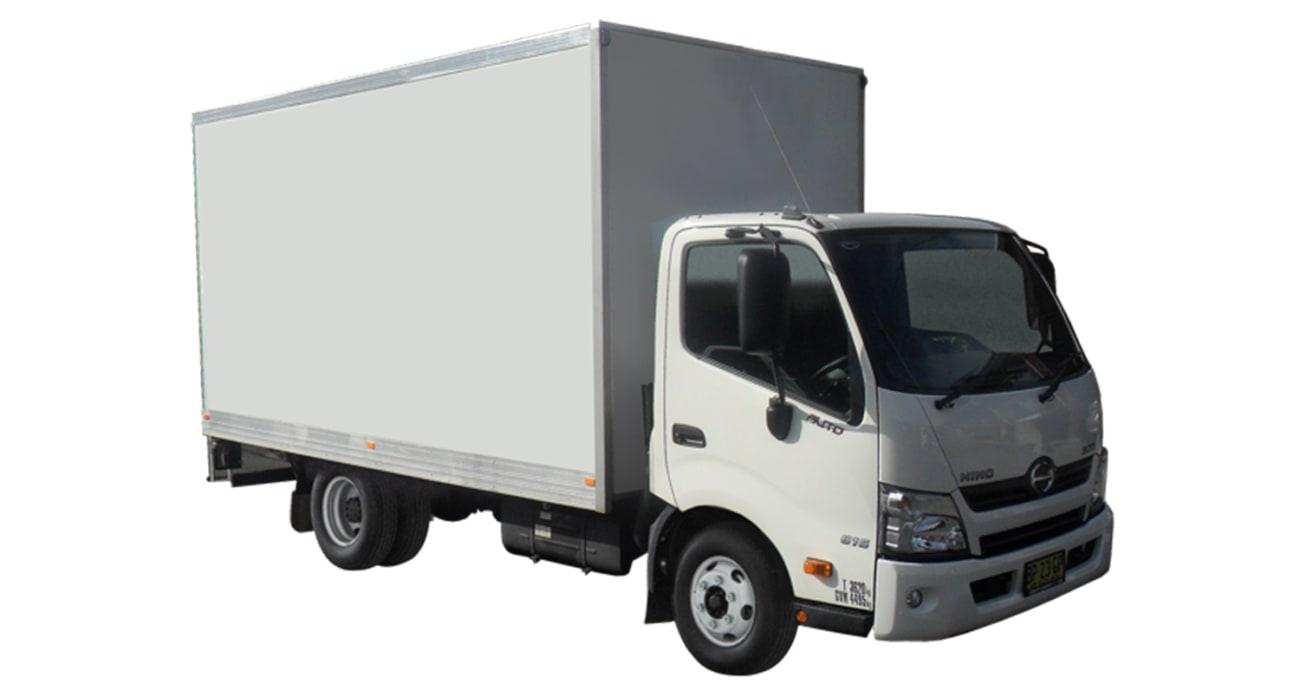truck: (191, 21, 1113, 677)
